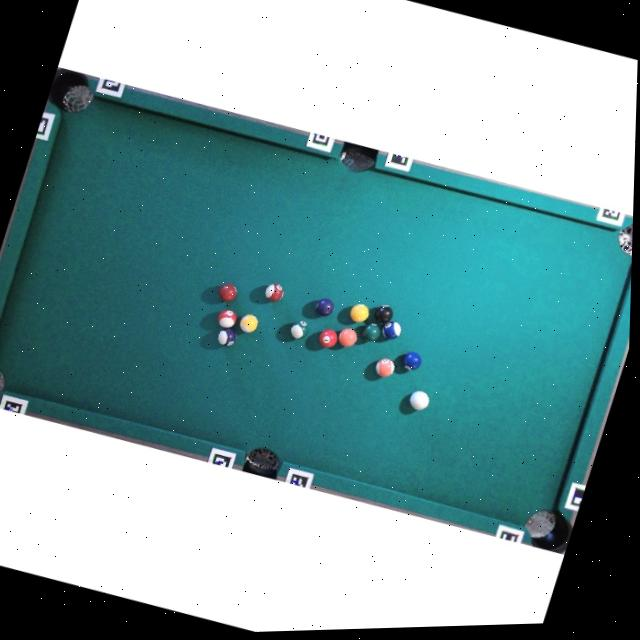cue ball: (406, 388, 431, 413)
other: (347, 300, 372, 325), (214, 307, 239, 331), (316, 326, 340, 350), (400, 349, 424, 373), (236, 311, 260, 335), (336, 325, 360, 349), (372, 355, 396, 379), (379, 318, 403, 341), (216, 280, 239, 304), (214, 325, 238, 348), (372, 302, 395, 326), (287, 318, 310, 341), (313, 295, 335, 318), (361, 320, 383, 343), (263, 280, 285, 303)
